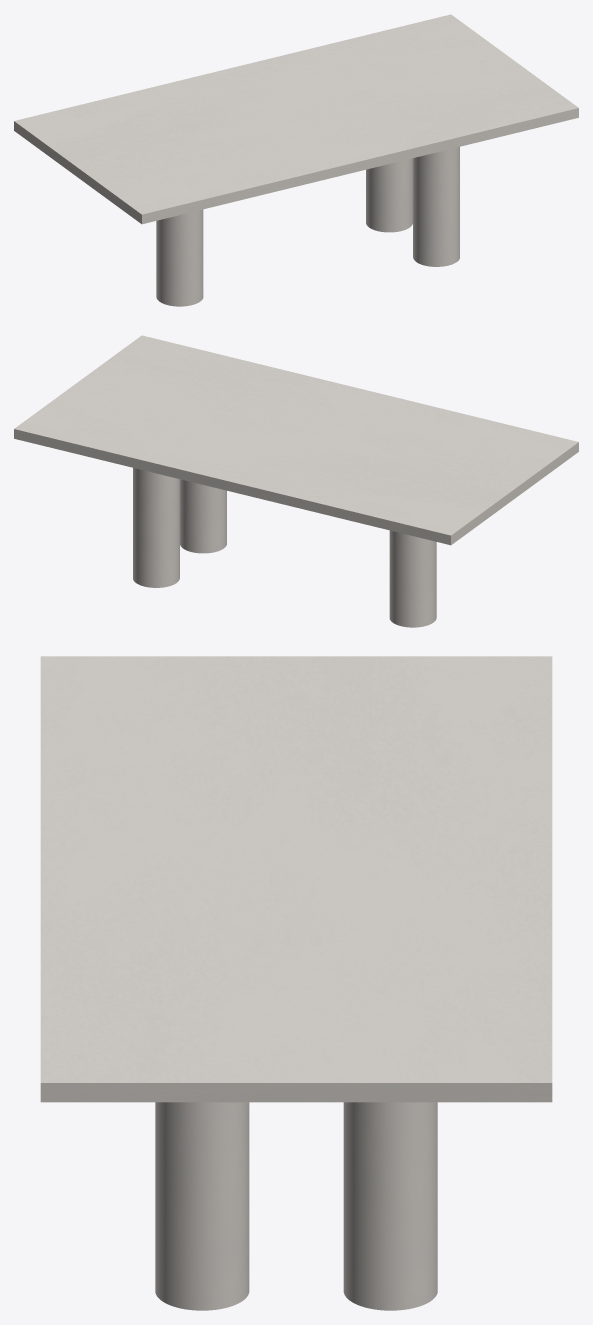
File: pearlwhite_recta_standard_cylinder.glb
3 views of the same model, one above another, from view 1: azimuth 30°, elevation 25°; view 2: azimuth 150°, elevation 25°; view 3: azimuth 270°, elevation 25° (orthographic). The views are drawn at different scales.
Visible parts, largest first — view 1: standard_recta, cylinder; view 2: standard_recta, cylinder; view 3: standard_recta, cylinder.
Boxes of the visible parts, left/top/right/bottom form: standard_recta: left=14, top=14, right=578, bottom=224; cylinder: left=156, top=147, right=459, bottom=306; standard_recta: left=14, top=335, right=578, bottom=545; cylinder: left=133, top=468, right=436, bottom=627; standard_recta: left=40, top=656, right=552, bottom=1102; cylinder: left=155, top=1102, right=437, bottom=1310.
Bounding box in the file's own units: 7.5 × 2.52 × 3.8.
Materials: 1 (1 with a texture image).
